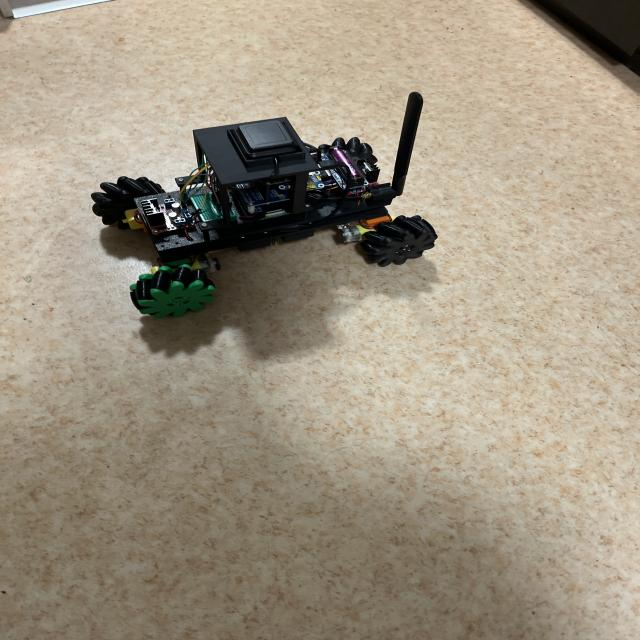robot: (91, 93, 437, 317)
